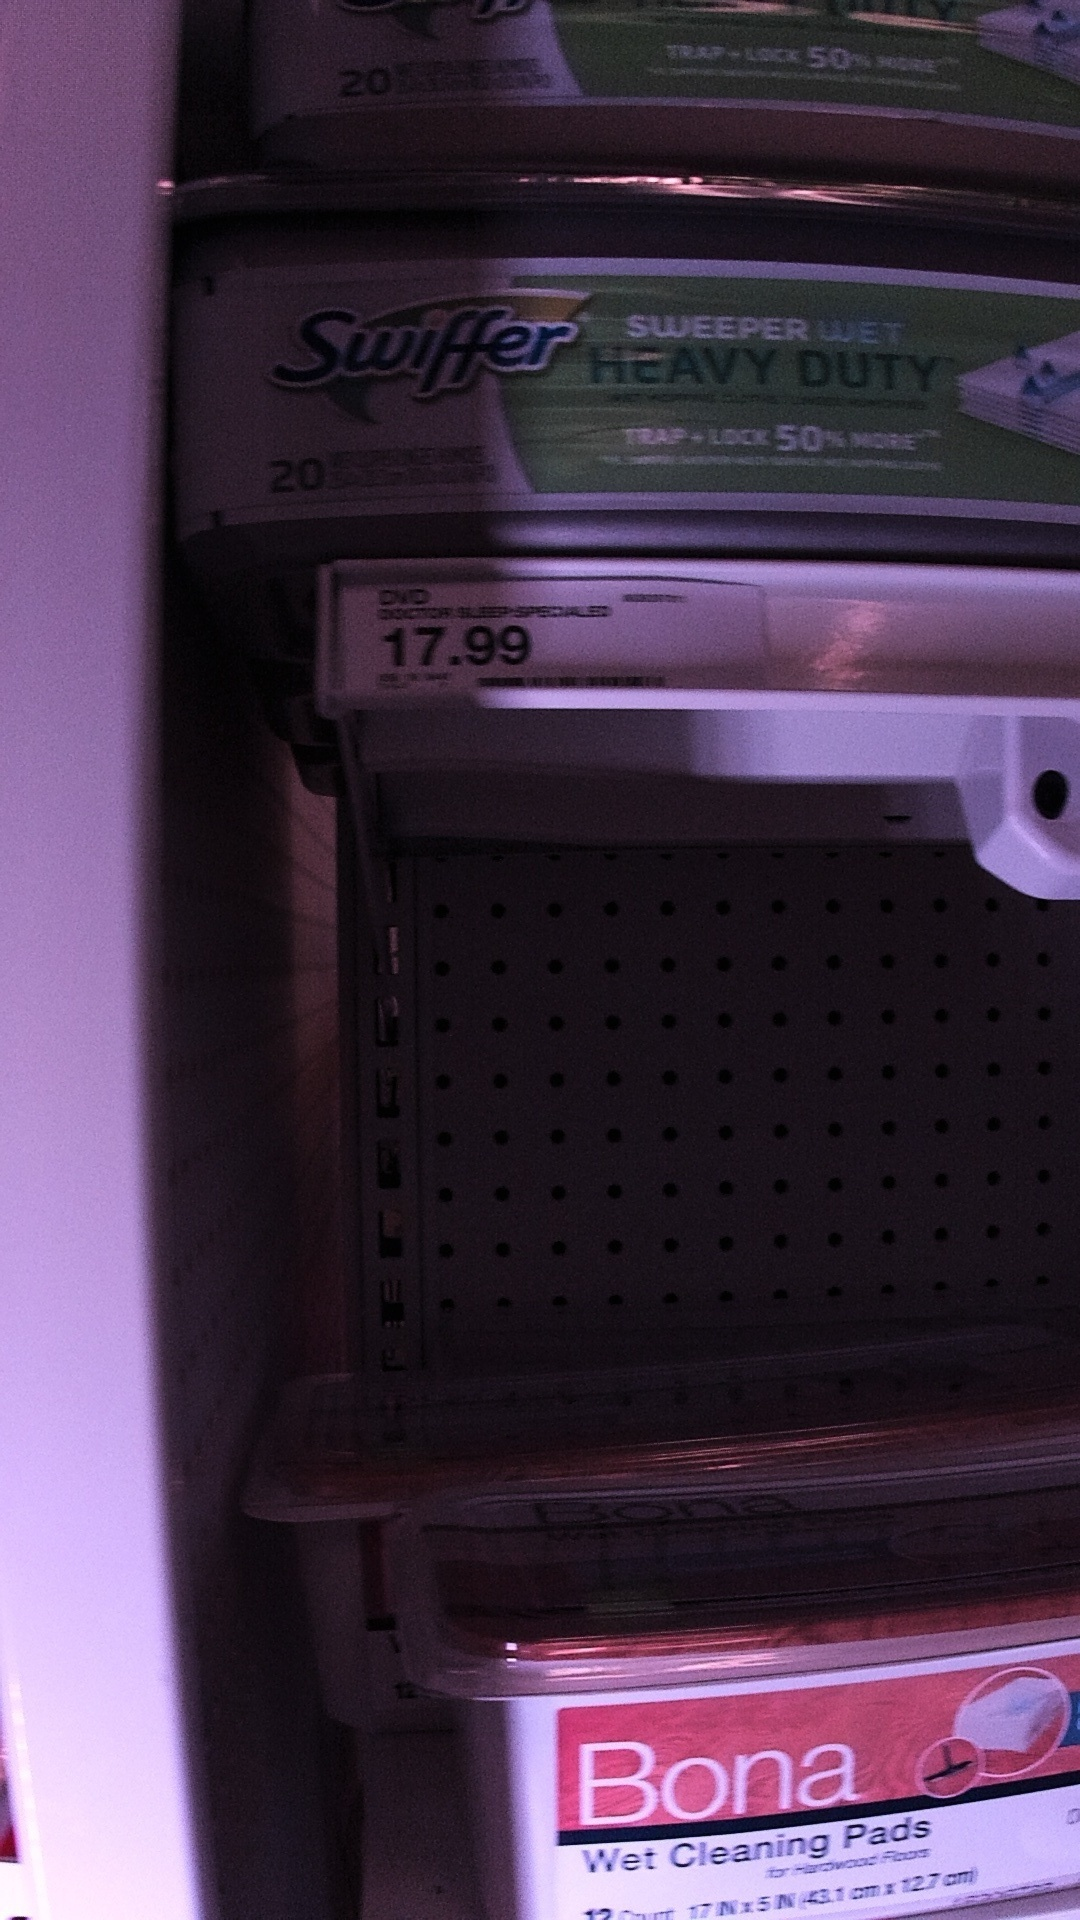ptag: (326, 566, 789, 717)
